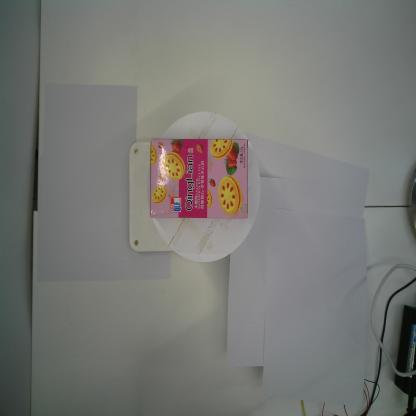Dessert: (148, 136, 250, 219)
